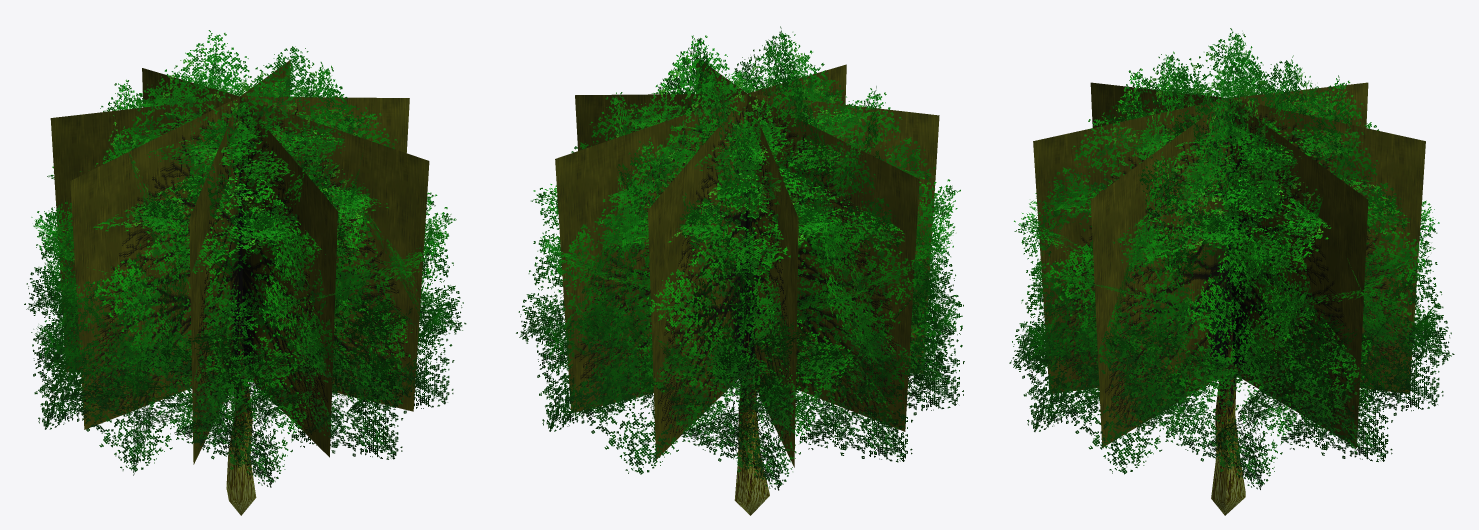
File: haagbeuk_2.fbx
3 views of the same model, side by side, from view 1: azimuth 30°, elevation 25°; view 2: azimuth 150°, elevation 25°; view 3: azimuth 270°, elevation 25° (orthographic).
Parts seen in each view (by area): view 1: haagbeuk_2; view 2: haagbeuk_2; view 3: haagbeuk_2.
Part boxes in pixels (x1,y1,x2,y2): haagbeuk_2: [24, 30, 466, 515]; haagbeuk_2: [516, 26, 964, 515]; haagbeuk_2: [1009, 28, 1454, 515].
Bounding box in the file's own units: 1803 × 2067 × 1830.
